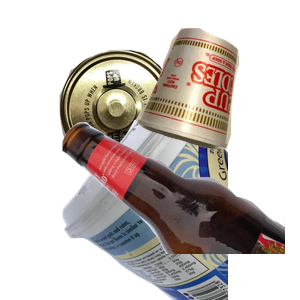glass: (60, 120, 300, 300)
metal: (57, 47, 227, 211)
plastic: (60, 120, 300, 300)
trash: (133, 25, 300, 167)
